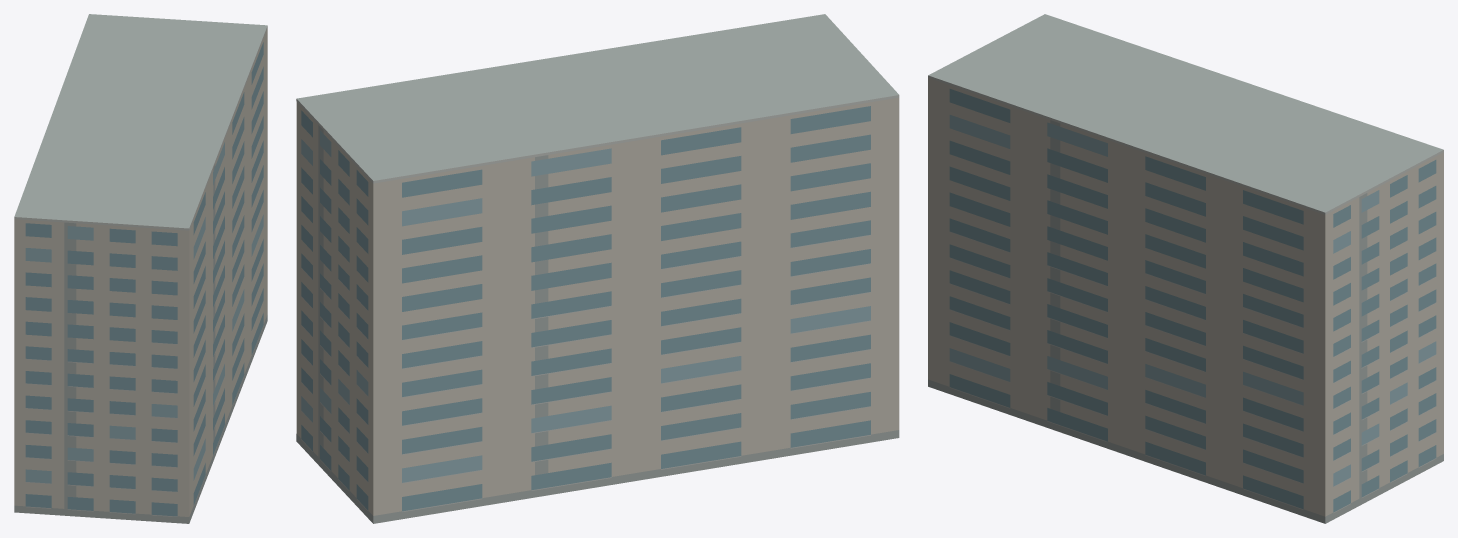
File: residential-5968915c-913a-4572-a566-fd1e04283e7d.glb
3 views of the same model, side by side, from view 1: azimuth 30°, elevation 25°; view 2: azimuth 150°, elevation 25°; view 3: azimuth 270°, elevation 25° (orthographic). The views are drawn at different scales.
Visible parts, largest first — view 1: residential-5968915c-913a-4572-a566-fd1e04283e7d.tmp; view 2: residential-5968915c-913a-4572-a566-fd1e04283e7d.tmp; view 3: residential-5968915c-913a-4572-a566-fd1e04283e7d.tmp.
Part boxes in pixels (<box>): residential-5968915c-913a-4572-a566-fd1e04283e7d.tmp: <box>14,14,267,523</box>; residential-5968915c-913a-4572-a566-fd1e04283e7d.tmp: <box>296,14,899,523</box>; residential-5968915c-913a-4572-a566-fd1e04283e7d.tmp: <box>928,14,1443,523</box>.
Bounding box in the file's own units: 43.81 × 32 × 48.07.
